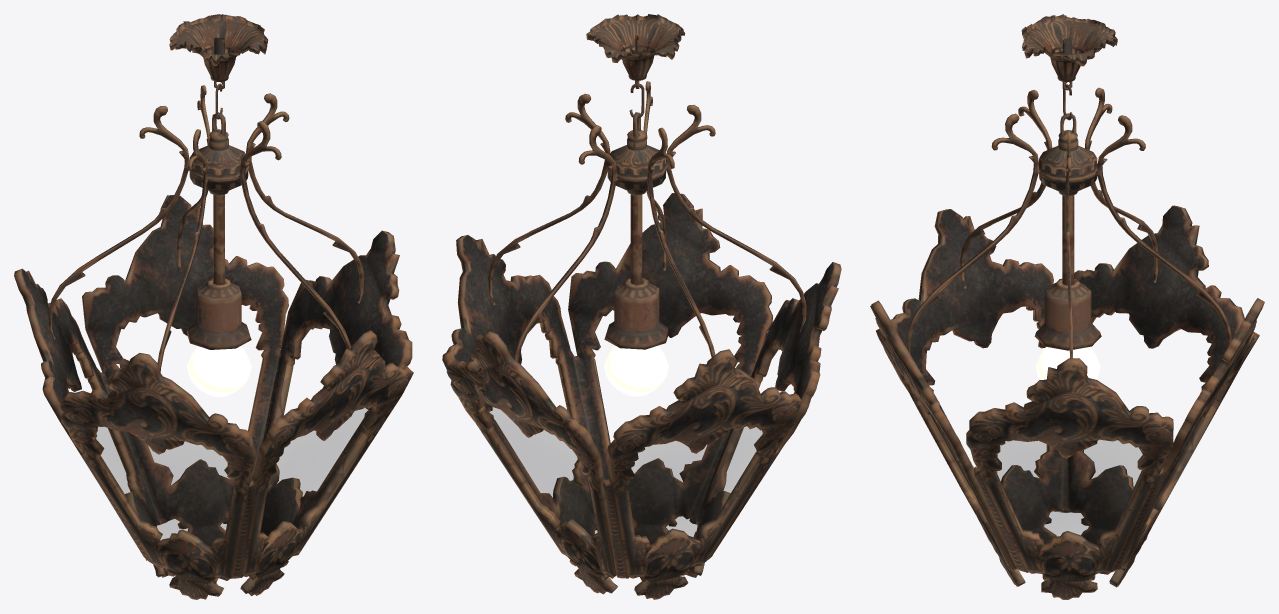
Rendered from lantern_chandelier_01.glb.
3 renders of one model, left to right at view 1: azimuth 30°, elevation 25°; view 2: azimuth 150°, elevation 25°; view 3: azimuth 270°, elevation 25°, orthographic.
Visible parts, largest first — view 1: lantern_chandelier_01; view 2: lantern_chandelier_01; view 3: lantern_chandelier_01.
Boxes of the visible parts, x1=… form: lantern_chandelier_01: x1=14, y1=14, x2=413, y2=599; lantern_chandelier_01: x1=442, y1=14, x2=841, y2=599; lantern_chandelier_01: x1=870, y1=14, x2=1264, y2=599.
Size of the model in its own units: 0.5792 by 0.8776 by 0.5746.
Materials: 3 (2 with a texture image).
